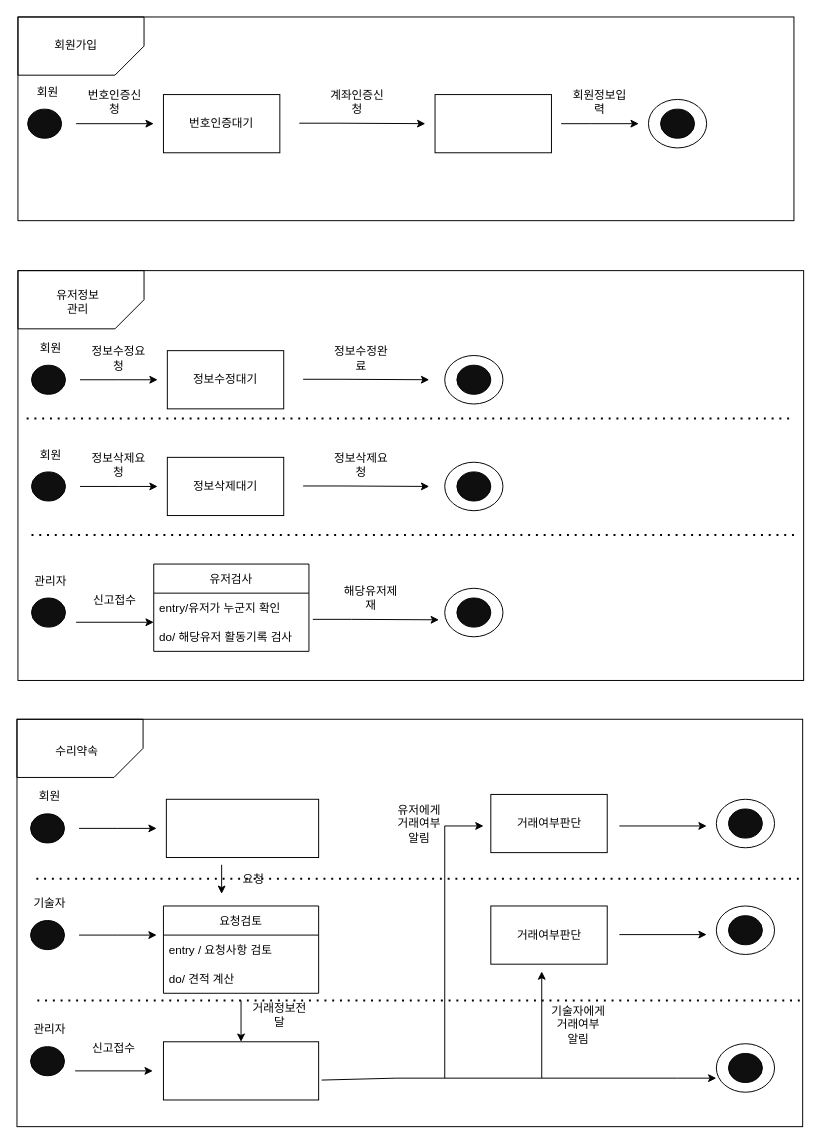
Image size: 823x1144. Some labels were removed from this diagram. Each missing label, with the centre of its shape:
"거래정보판단" belongs at [240,1070].
"계좌 인증 대기" belongs at [492,123].
"요청서작성" belongs at [242,827].
